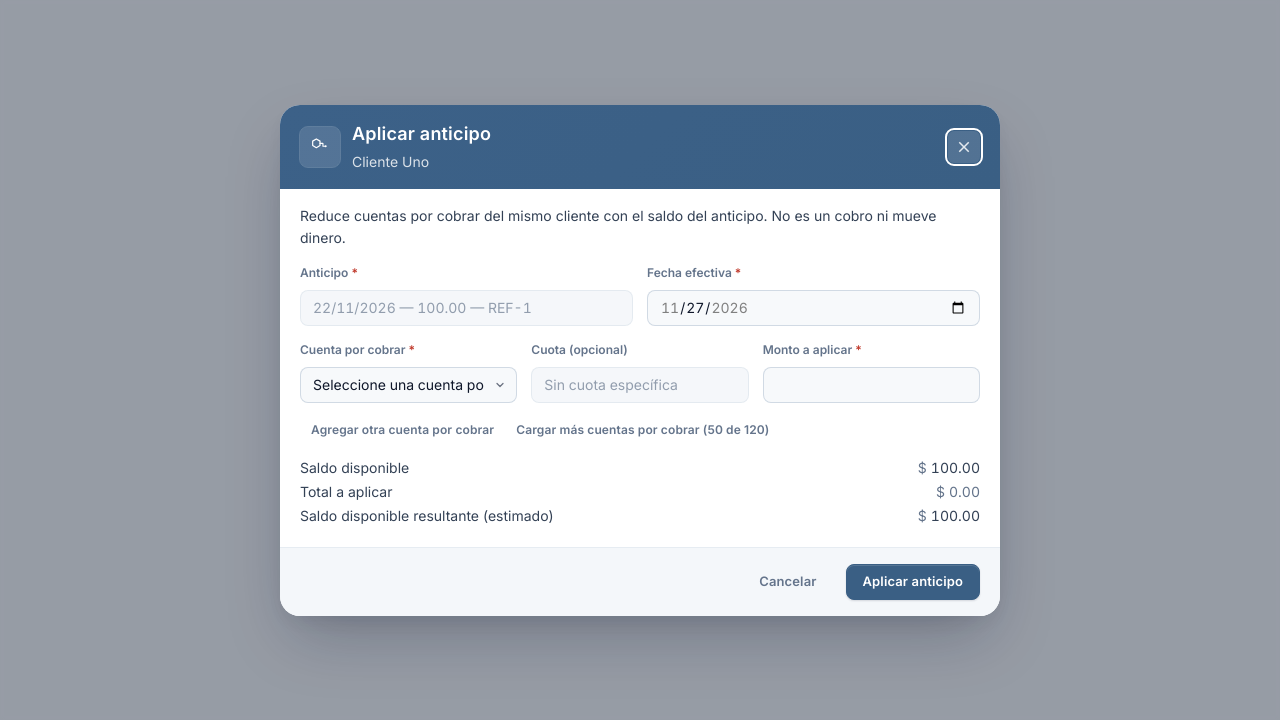
Test: Aplicación — CxC filtradas y paginadas en el servidor › pide una sola página del cliente y las siguientes solo bajo demanda
Click the button "Cargar más cuentas por cobrar (50 de 120)" at (643, 430), box top-left (505, 416), bottom-right (780, 442)
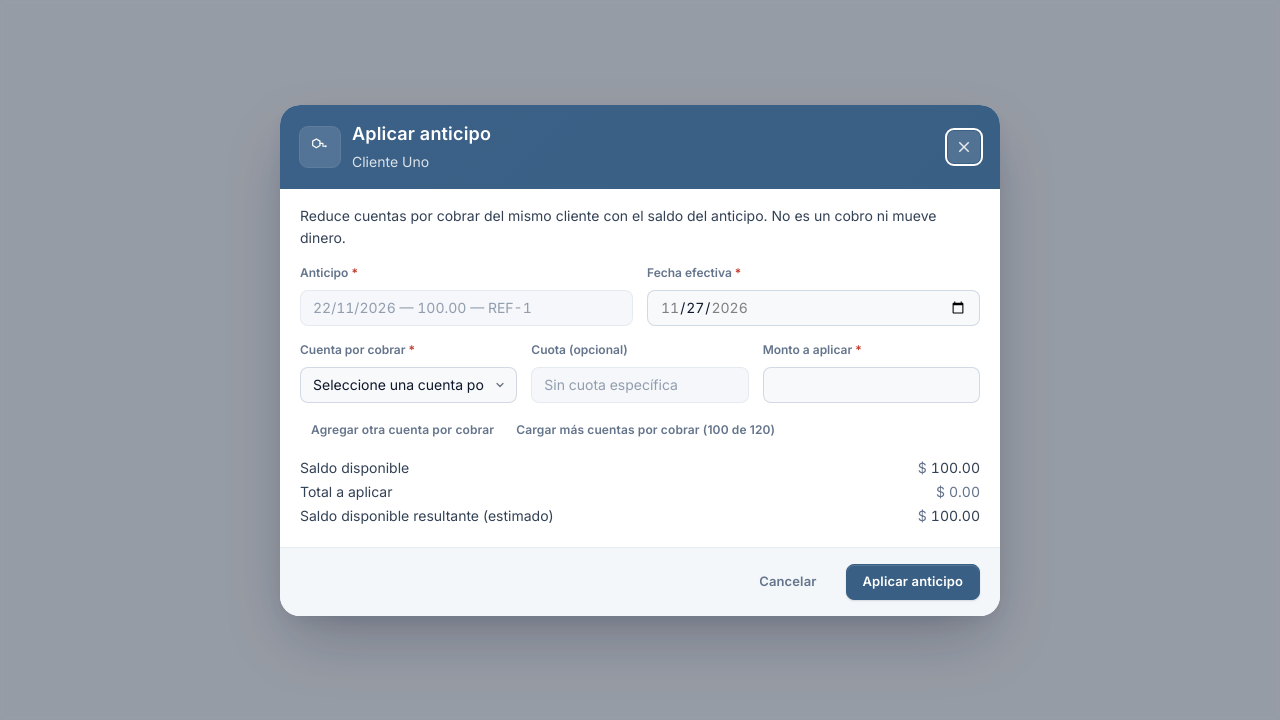
Expected: the button "Cargar más cuentas por cobrar (100 de 120)" is shown, top-left (505, 416), bottom-right (786, 442)
